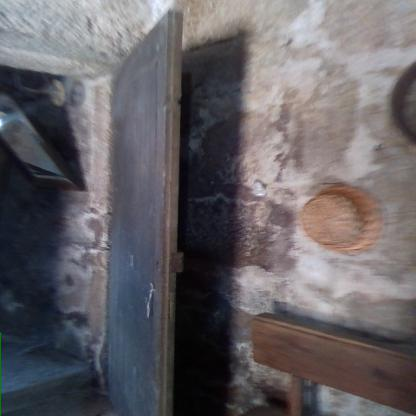semi: (0, 20, 193, 415)
